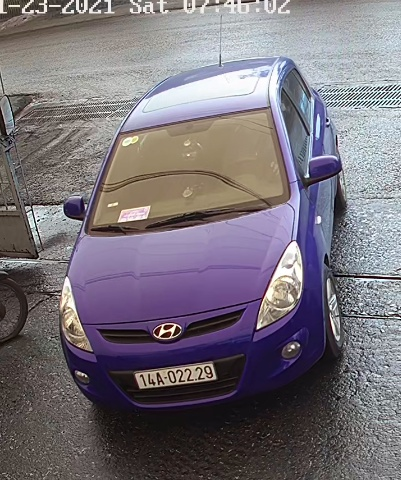vehicle plate: (124, 361, 230, 388)
